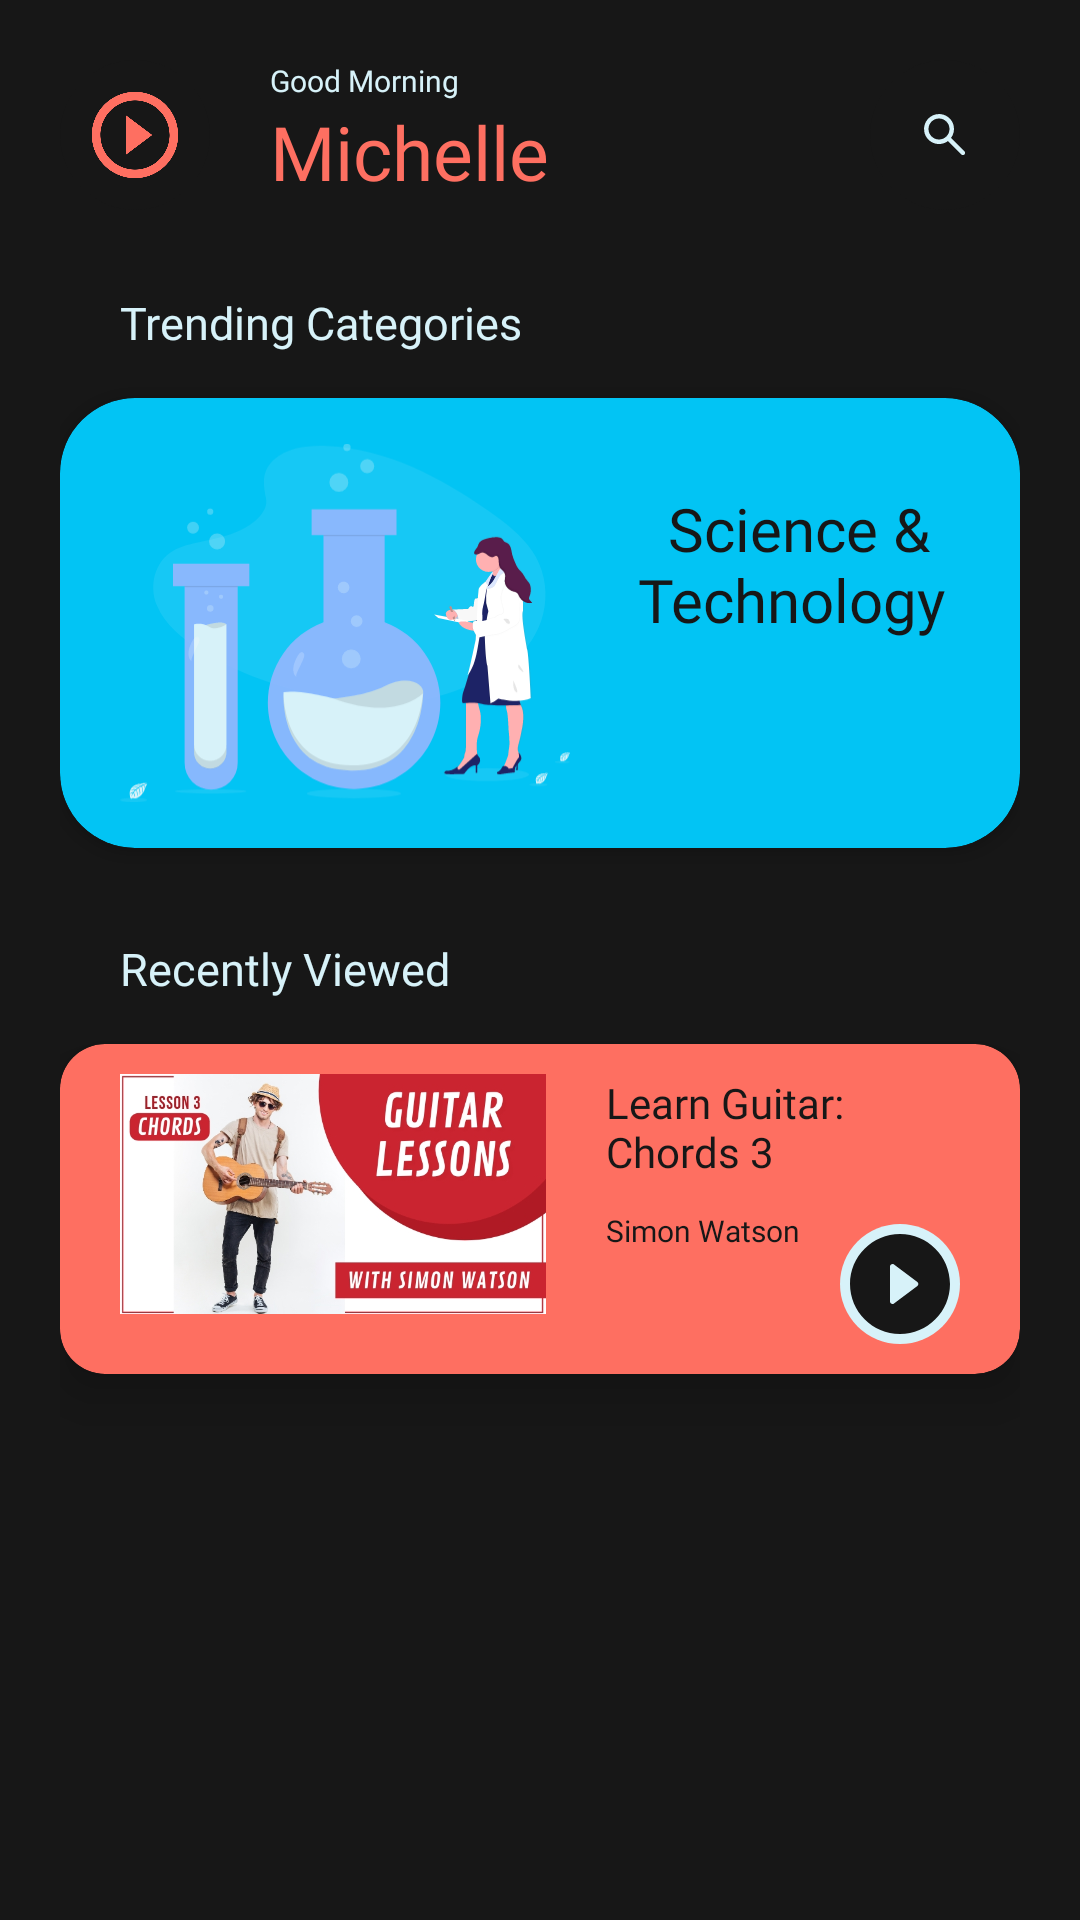

Named icons in this screenshot (1080w x 1920h) and their bounding boxes, region(x1, y1, x2, y2):
play: region(840, 1224, 960, 1344)
search: region(924, 114, 965, 155)
